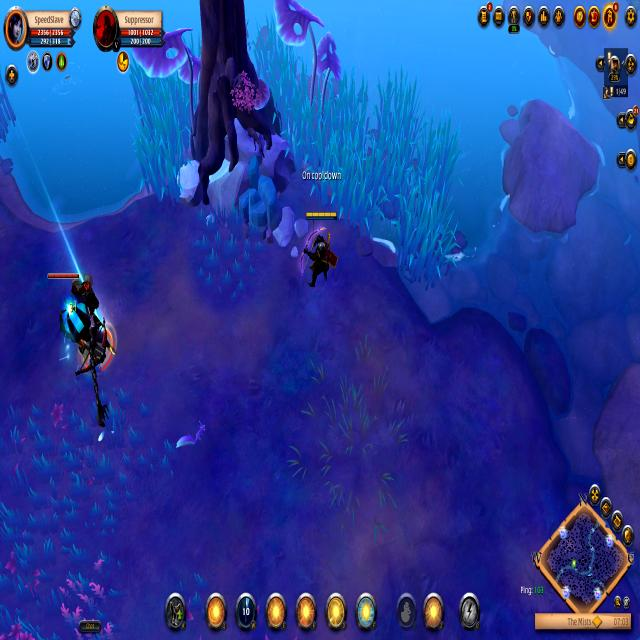10: (55, 293, 116, 439)
ore: (46, 261, 119, 376)
red: (300, 206, 341, 291)
tree: (235, 158, 285, 245)
